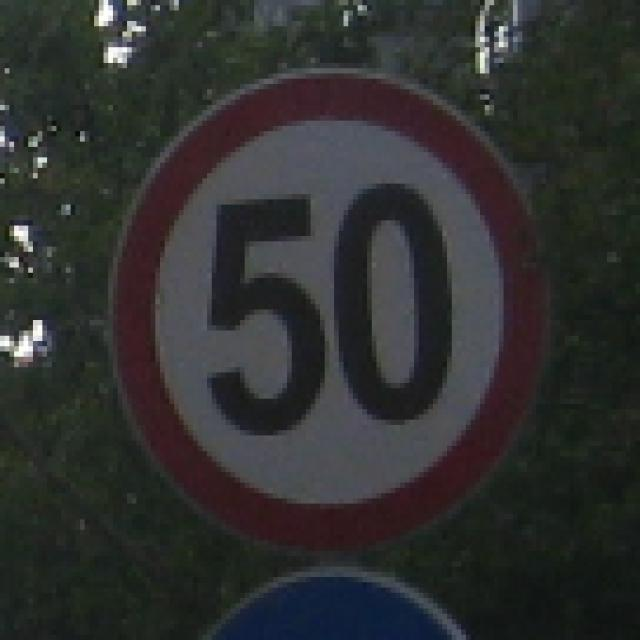Limite-50: (108, 64, 553, 559)
